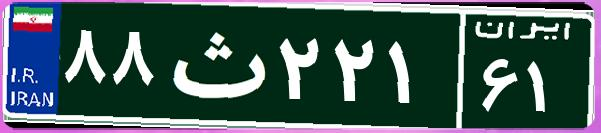1: (385, 28, 445, 110), (525, 38, 570, 115)
2: (273, 28, 330, 110), (330, 28, 385, 110)
6: (475, 38, 525, 113)
8: (57, 26, 110, 107), (110, 28, 158, 105)
ث: (158, 15, 273, 115)
